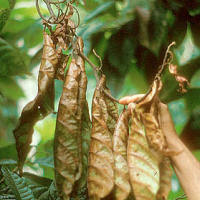mal de hilachas: (31, 9, 186, 192)
